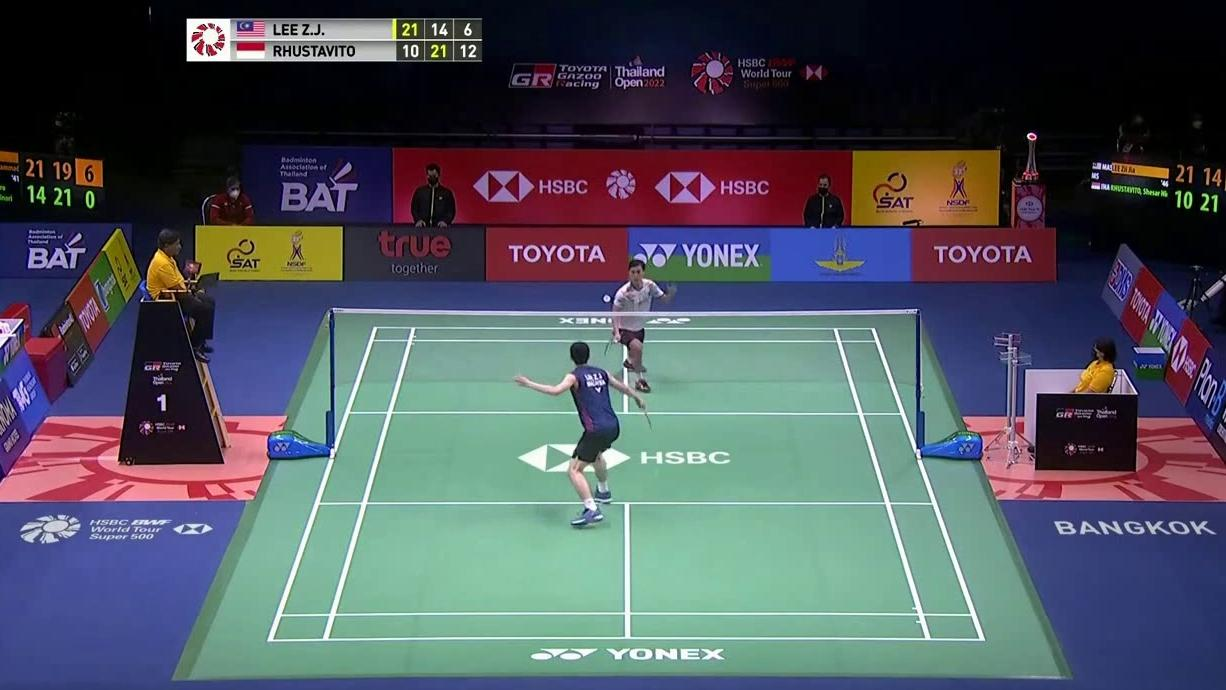racket: (638, 401, 656, 435), (602, 336, 620, 358)
shuttle: (602, 292, 612, 304)
